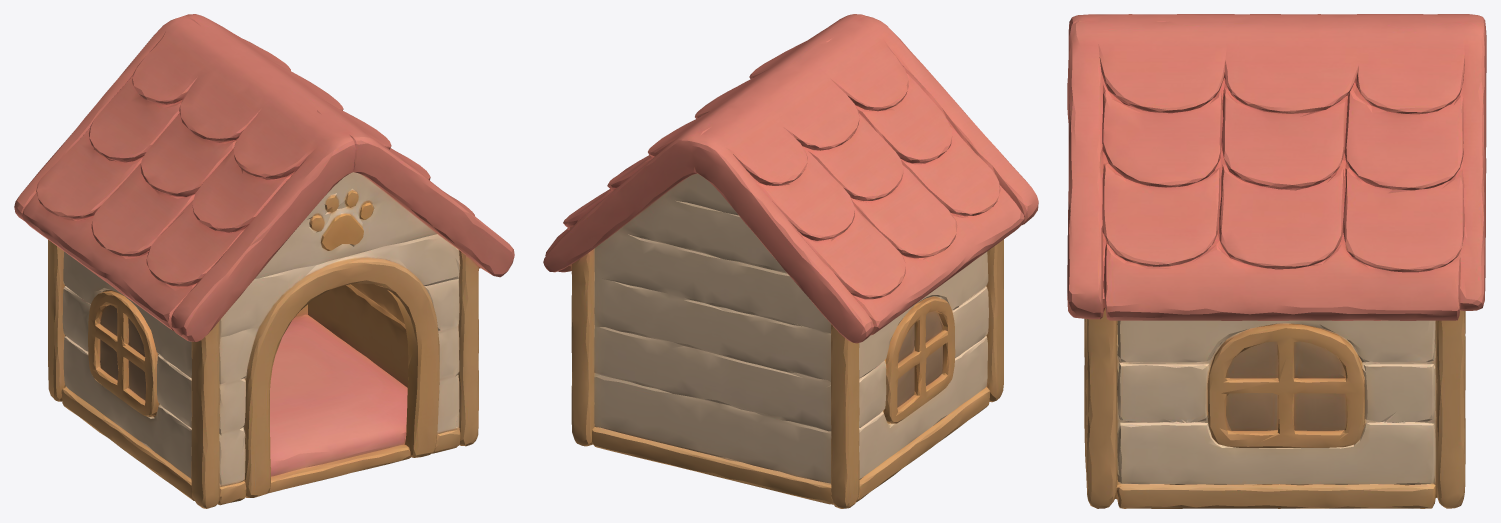
File: shelter.glb
3 views of the same model, side by side, from view 1: azimuth 30°, elevation 25°; view 2: azimuth 150°, elevation 25°; view 3: azimuth 270°, elevation 25° (orthographic). The views are drawn at different scales.
Parts seen in each view (by area): view 1: Mesh; view 2: Mesh; view 3: Mesh.
Boxes of the visible parts, box(x1,y1,x2,y2) form: Mesh: box(14, 14, 514, 508); Mesh: box(543, 14, 1038, 508); Mesh: box(1067, 14, 1486, 508).
Bounding box in the file's own units: 1.89 × 1.87 × 1.72.
Materials: 1 (1 with a texture image).
